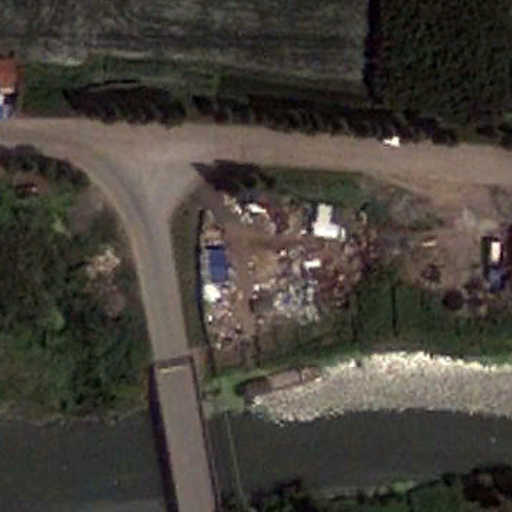msw: (199, 192, 321, 343)
